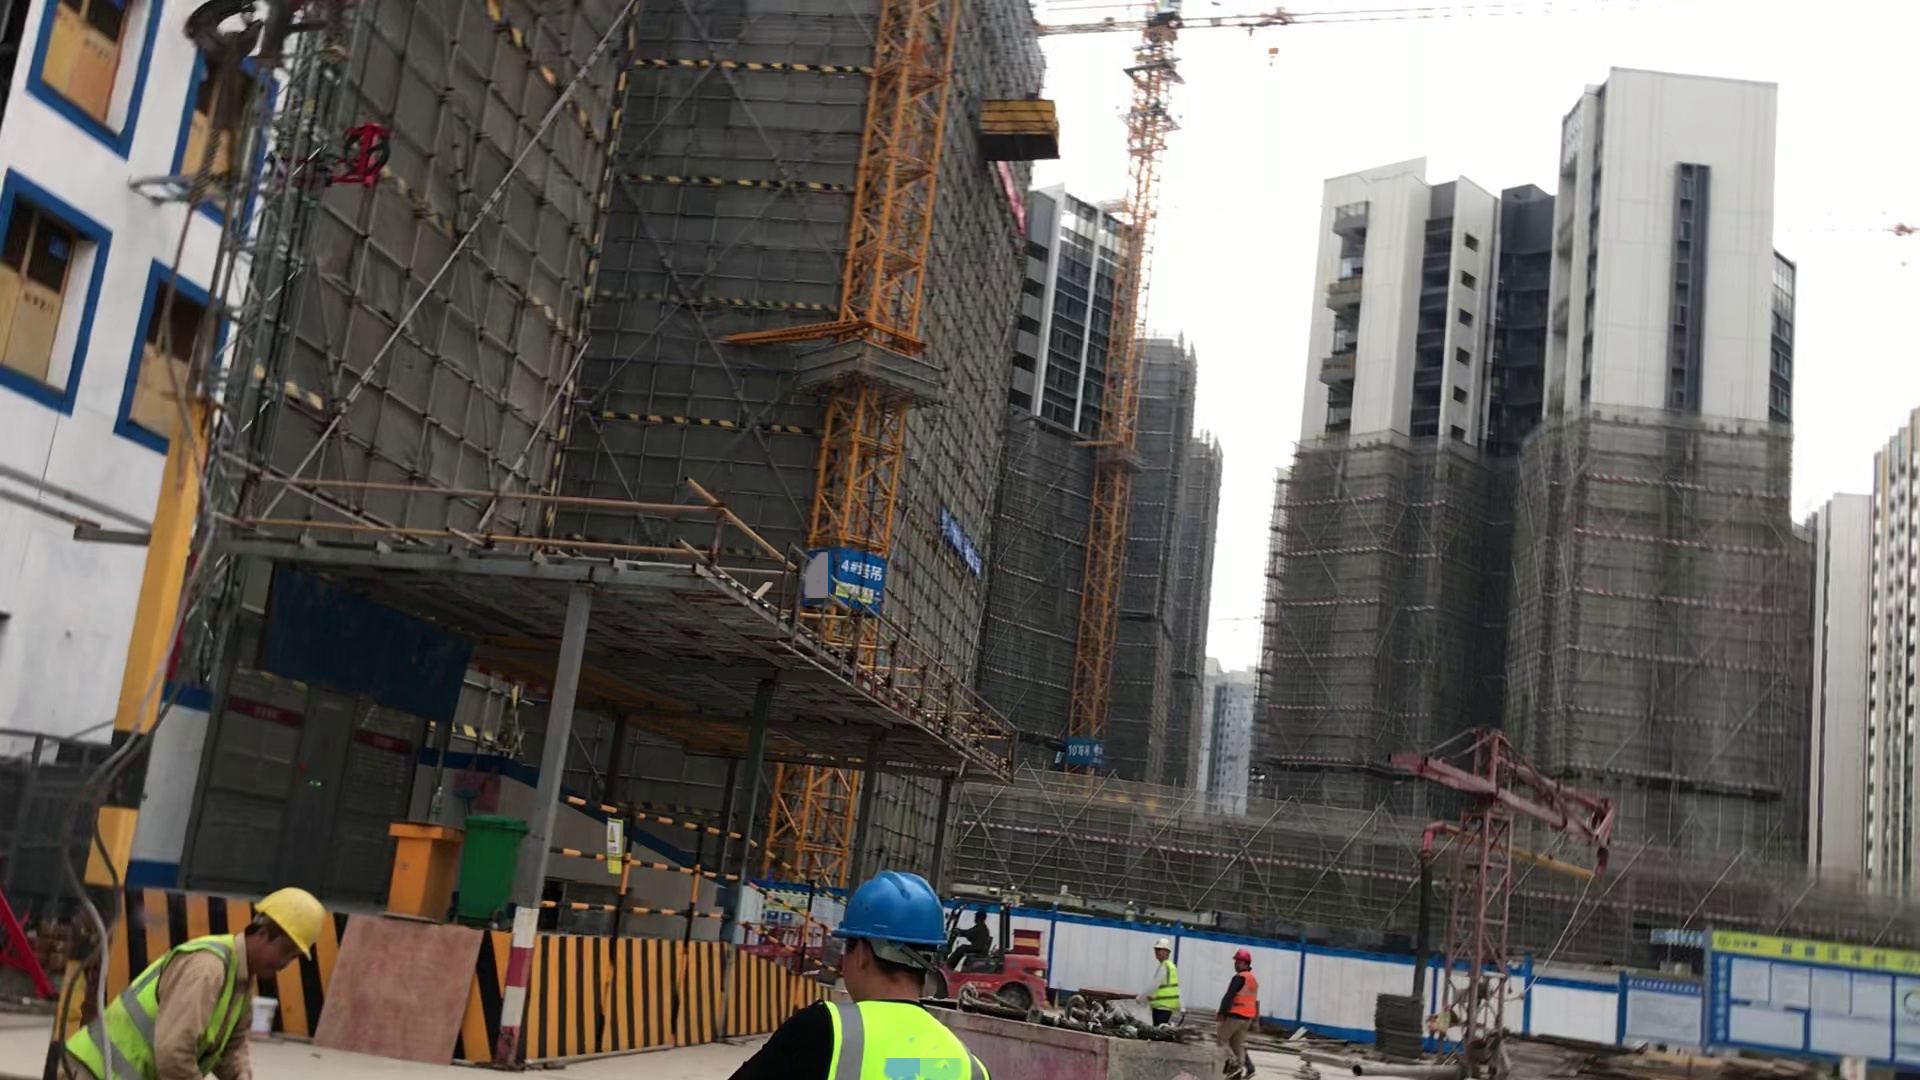fence: (535, 791, 841, 974)
helmet: (840, 865, 966, 961), (252, 873, 333, 964), (1150, 929, 1178, 954), (1236, 946, 1254, 964)
hook: (1261, 41, 1286, 71)
person: (31, 830, 361, 1080), (709, 851, 1004, 1080), (1202, 929, 1285, 1080), (1119, 915, 1192, 1037), (955, 897, 998, 979)
slogan: (1688, 911, 1920, 1076), (1599, 954, 1731, 1072), (780, 532, 895, 623), (926, 499, 998, 596), (588, 805, 637, 891), (1054, 723, 1111, 774), (1652, 909, 1700, 958)
vest: (37, 924, 283, 1080), (791, 978, 1005, 1080), (1209, 966, 1275, 1039), (1155, 954, 1187, 1014)
